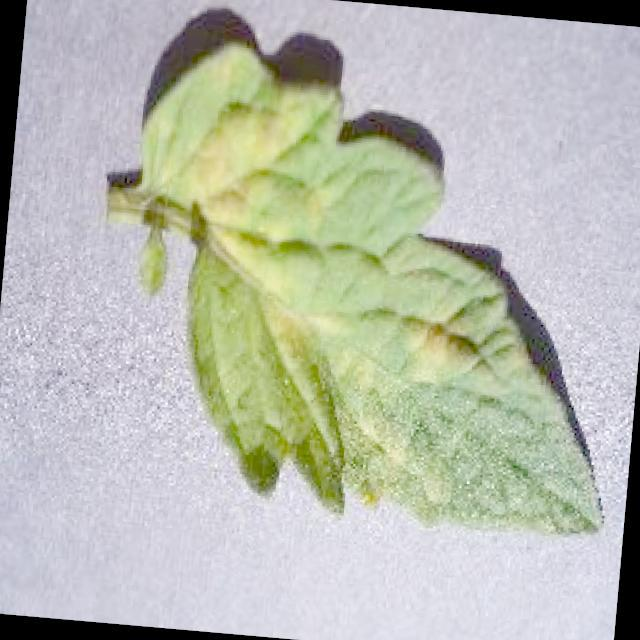Tomato mold leaf: (107, 37, 640, 543)
